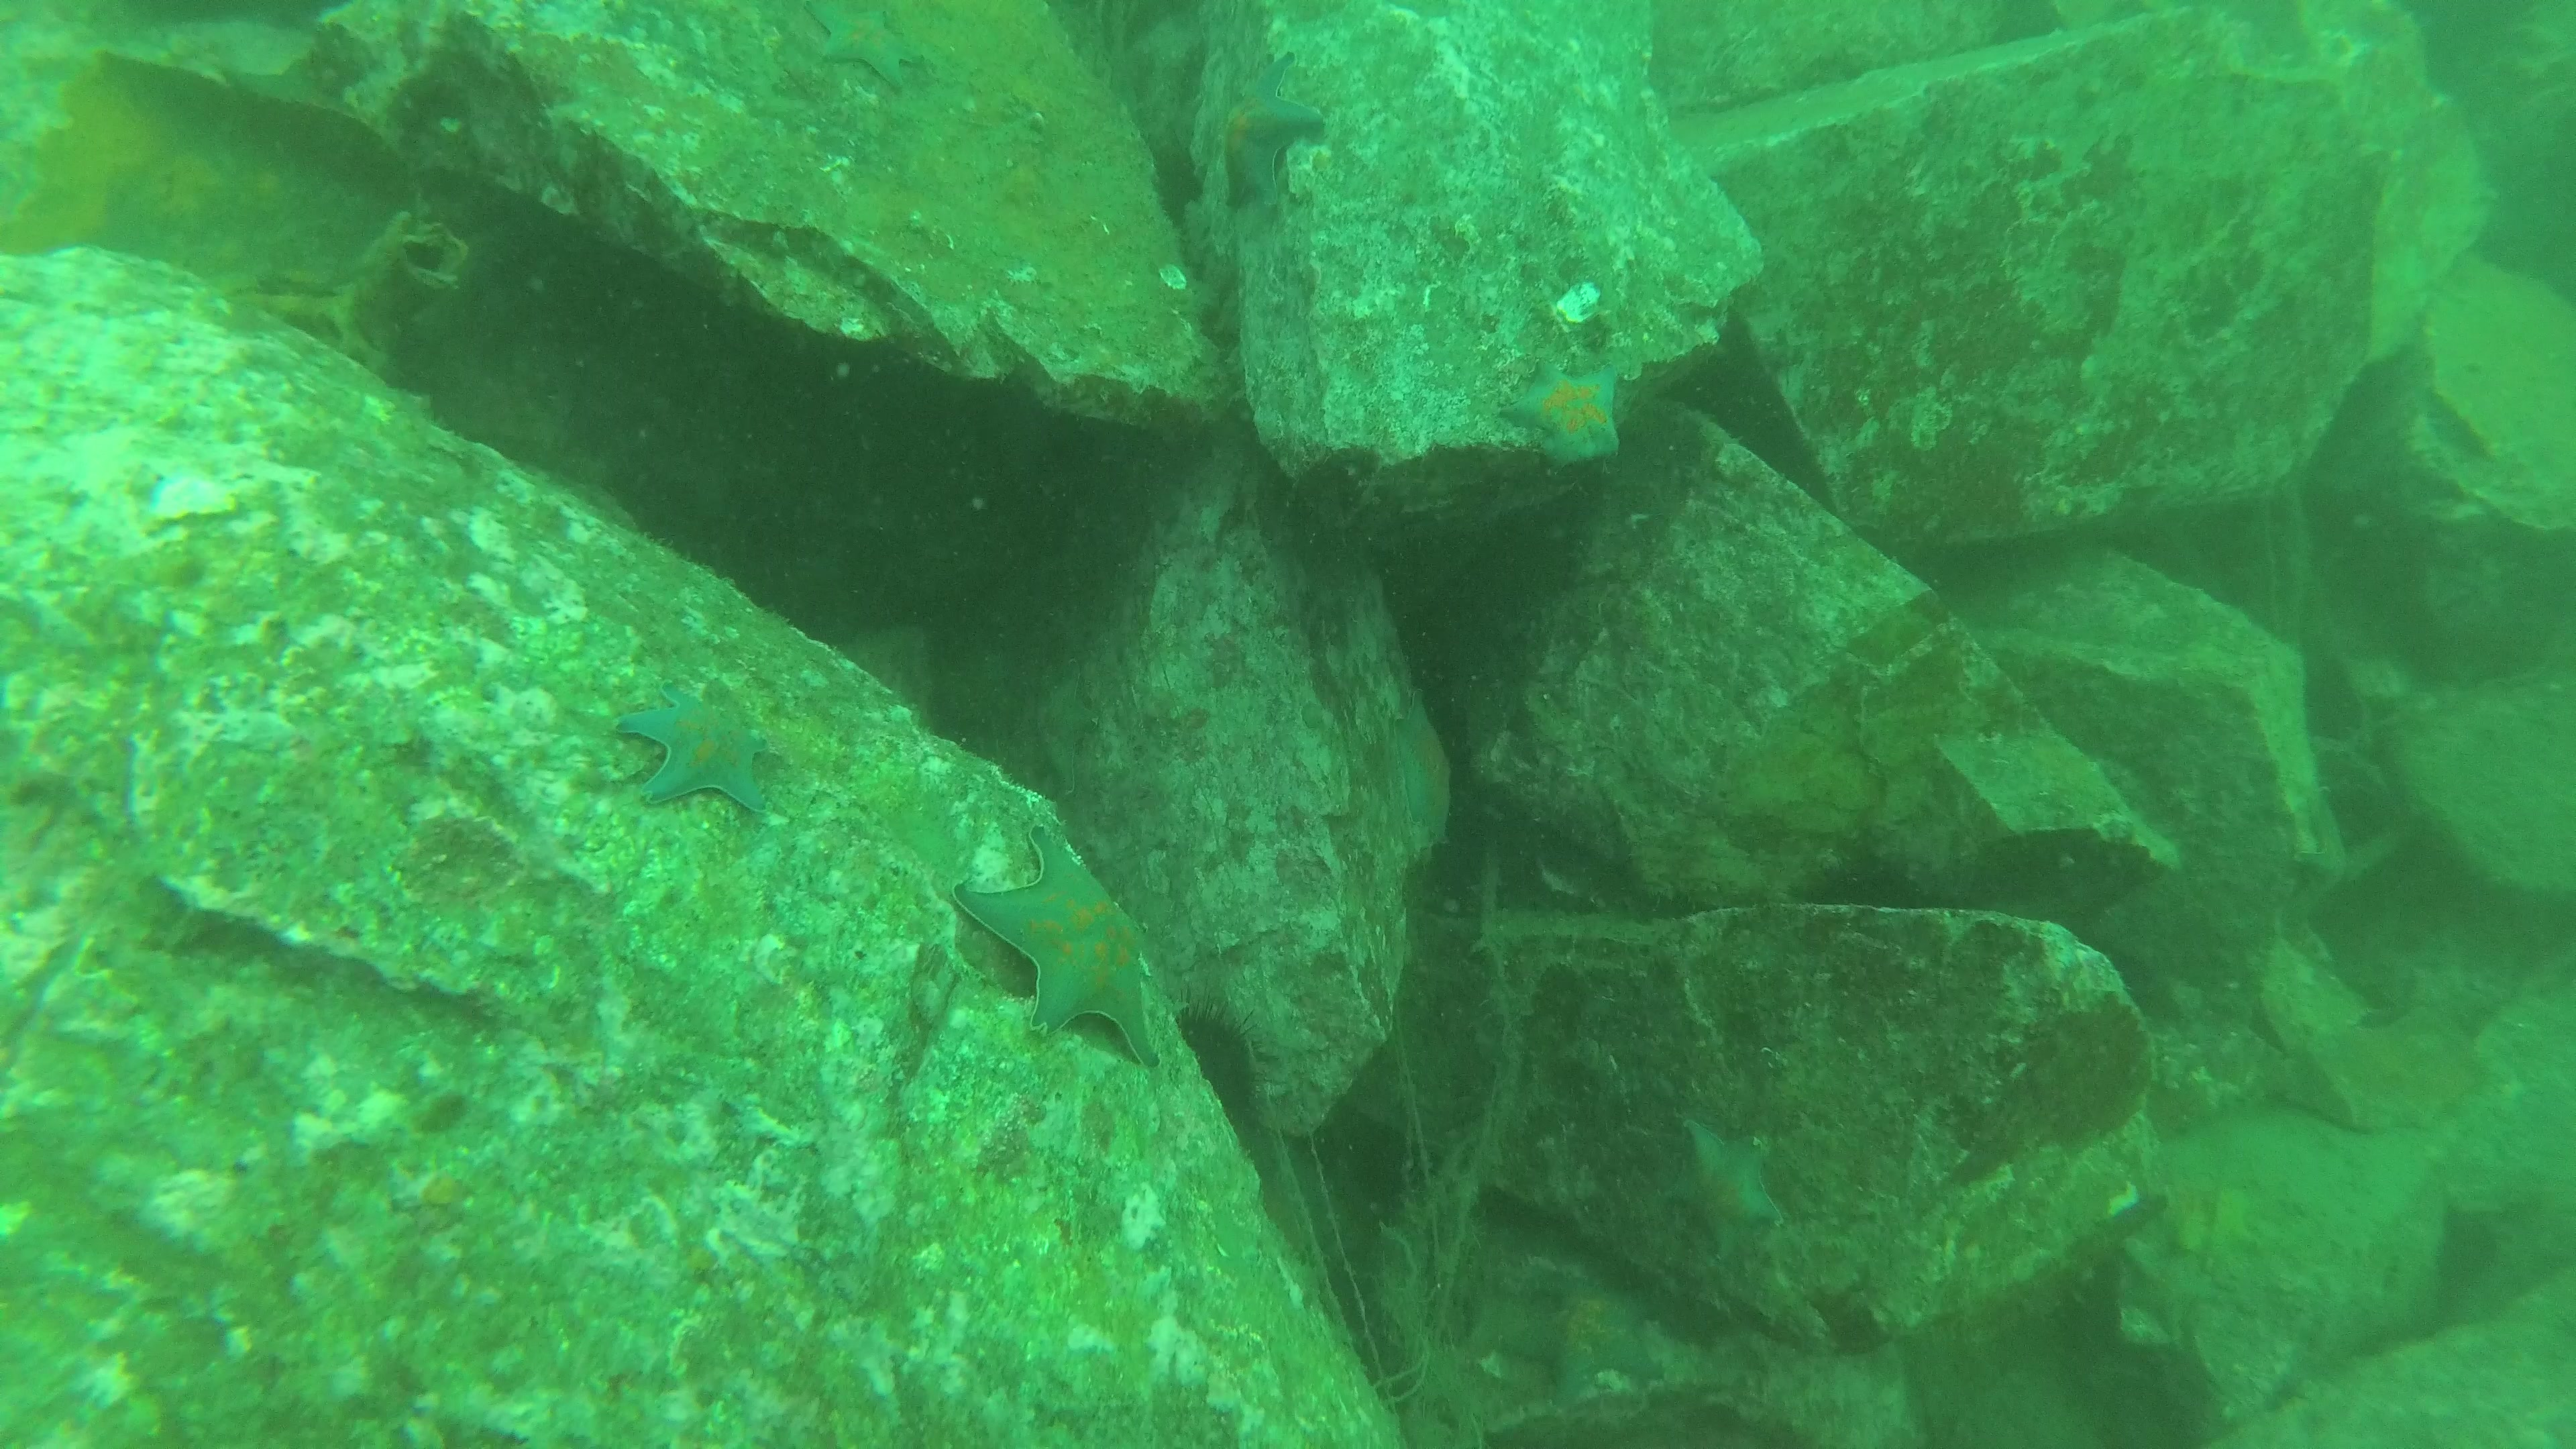echinus: (1169, 989, 1277, 1131), (1815, 844, 1928, 909)
starfish: (957, 821, 1168, 1074), (1500, 1267, 1668, 1414), (609, 676, 775, 819), (1658, 1116, 1789, 1265), (1219, 48, 1332, 211), (1499, 354, 1629, 479)
